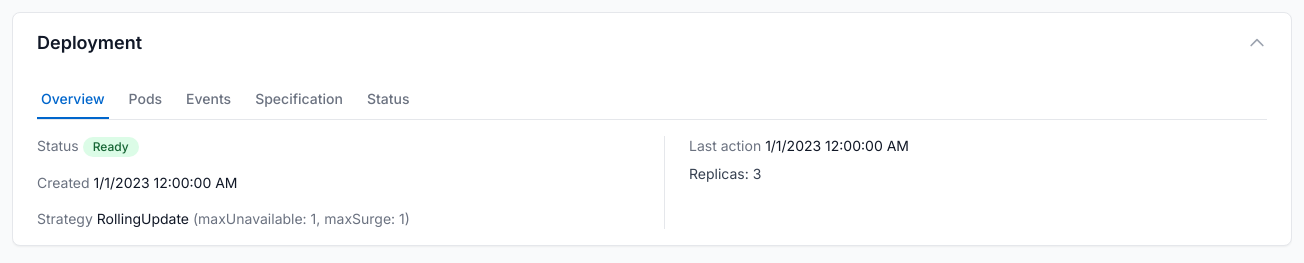
Test: WorkloadDetailPanel component › Pods tab › should render logs buttons when logs action is available and pod has podStatus
Click the button "Pods". click: (145, 100)
box: [124,81,166,119]
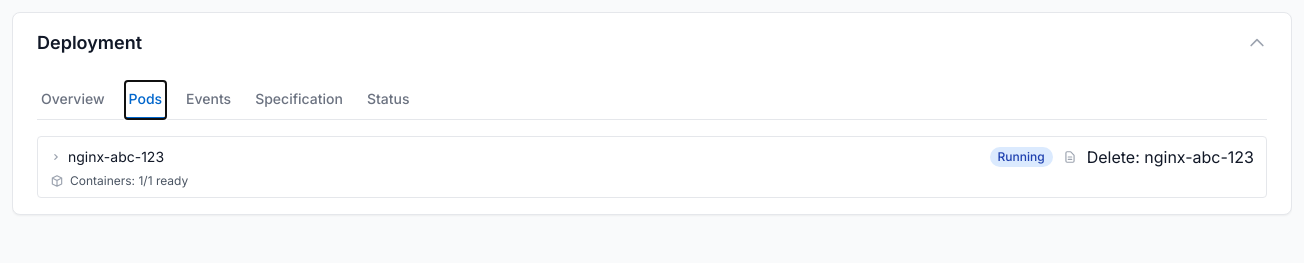
Now the button with test id "logs-pod-button" is shown
Click the button with test id "logs-pod-button". click: (1070, 157)
box: [1059,146,1081,168]
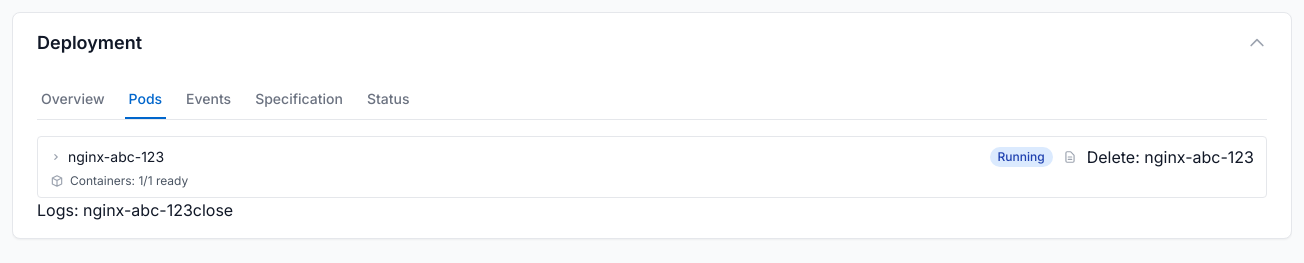
Now the text "nginx-abc-123" is shown, box [68,147,164,167]
Now the element with test id "logs-viewer-mock" shows "Logs: nginx-abc-123", box [37,198,233,222]
Note: Closing the viewer clears the share param.
Click the button with test id "logs-viewer-close". click: (213, 210)
box: [193,198,233,222]
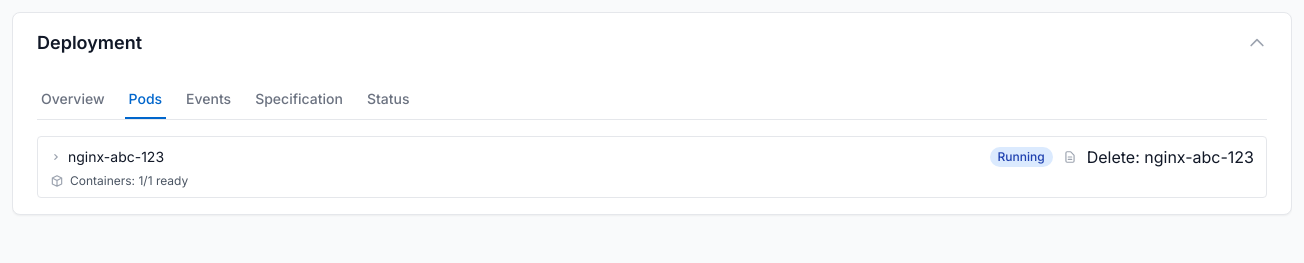
Now the element with test id "logs-viewer-mock" is gone
